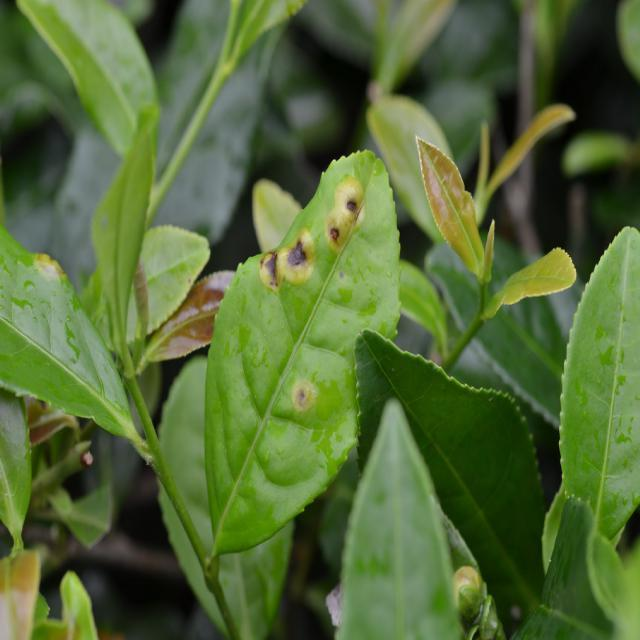Tea cake: (262, 233, 324, 290), (327, 178, 364, 258), (292, 375, 323, 414)
